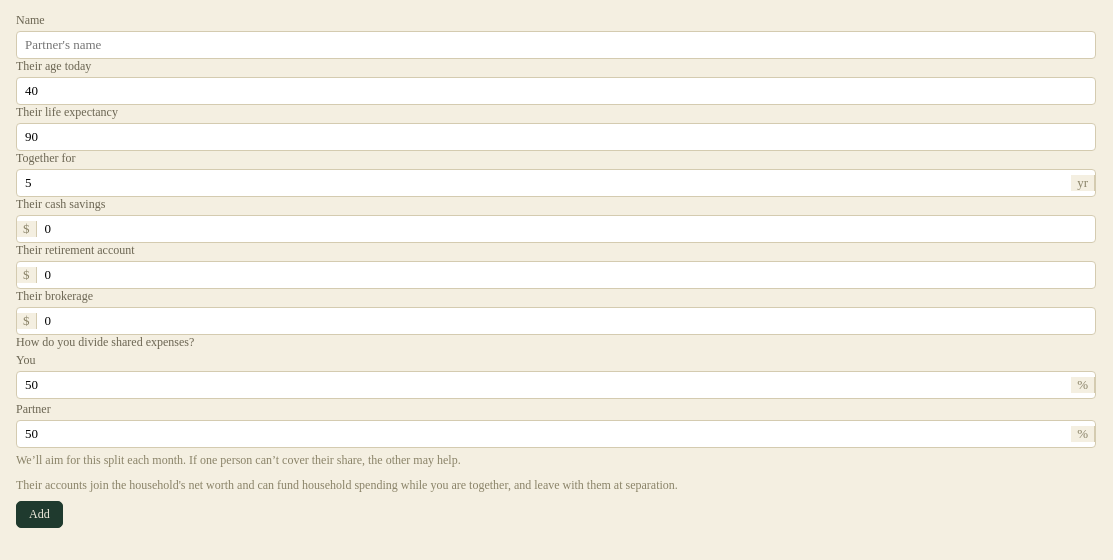
it: ExistingPartnerForm — bounds it states out loud › drops the explanation once the user types again
Replace the text in the number field labelled "Their cash savings $" with "-5000" at [566, 229], box [36,216,1095,242]
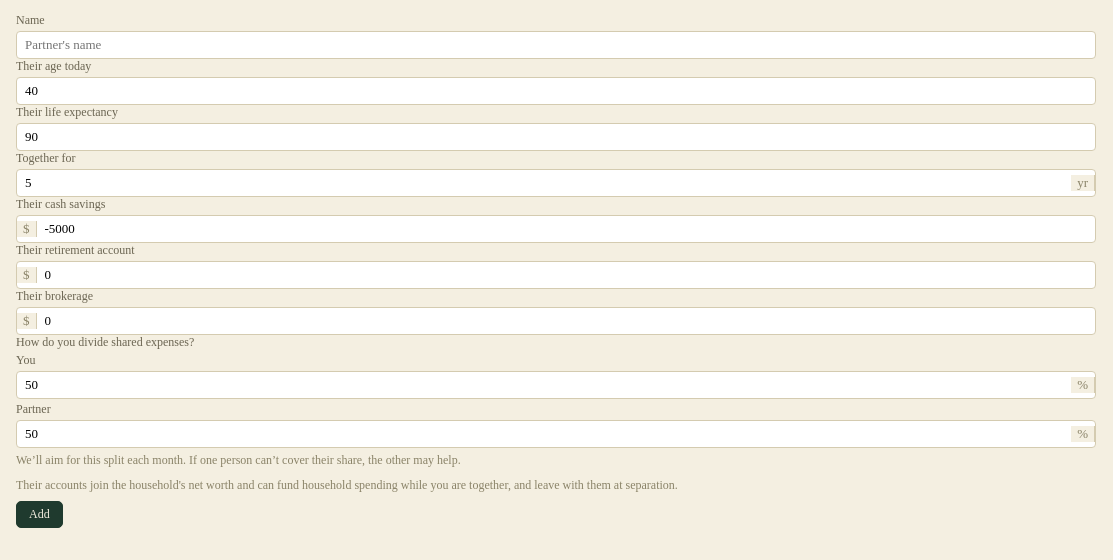
Leave the number field labelled "Their cash savings $", box [36,216,1095,242]
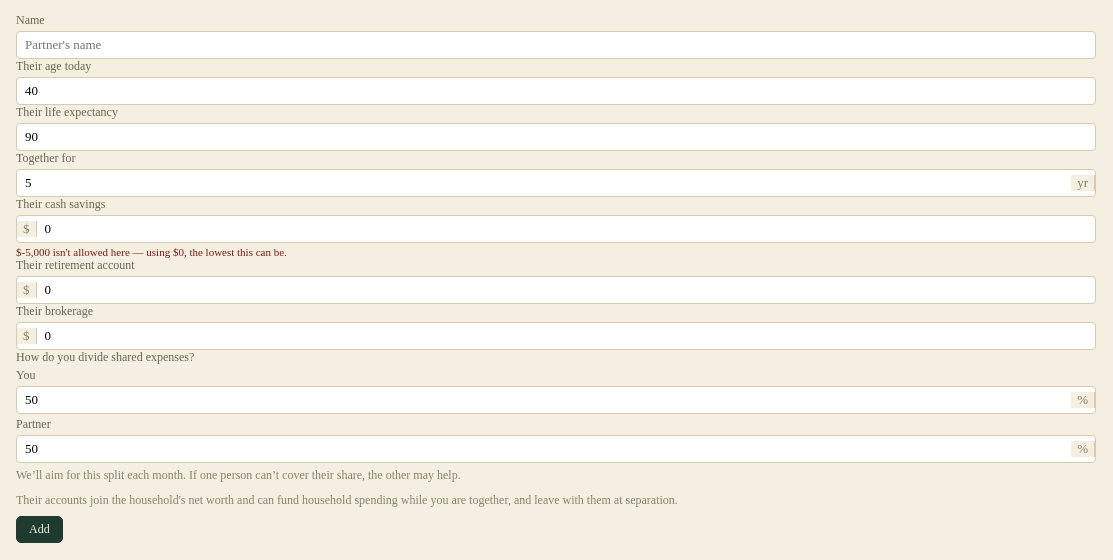
Expected: the text "$-5,000 isn't allowed here — using $0, the lowest this can be." is shown, [16,246,287,258]
Replace the text in the number field labelled "Their cash savings" with "1200" at [566, 229], box [36,216,1095,242]
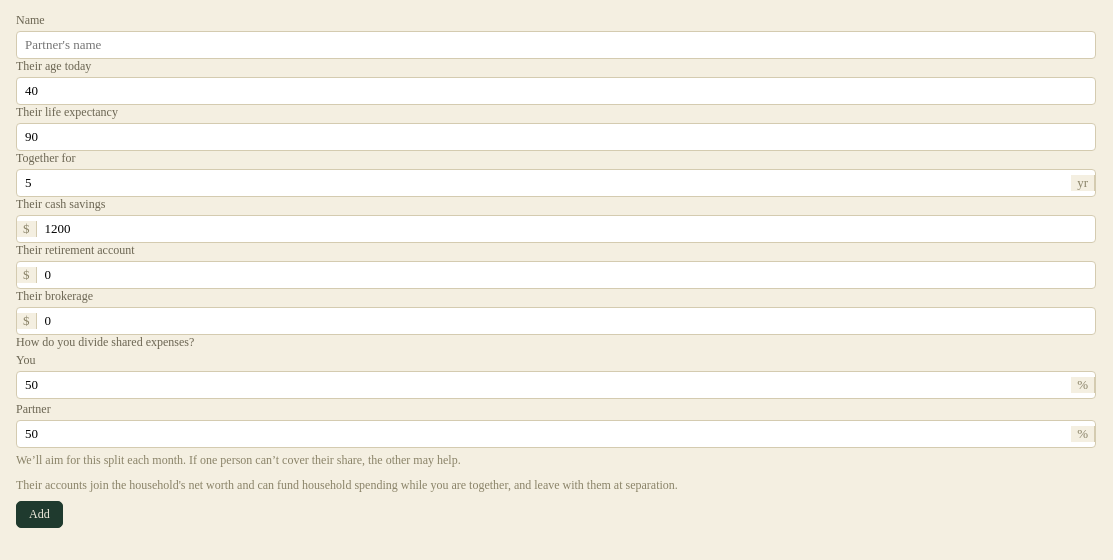
Expected: the text "isn't allowed here" is gone
